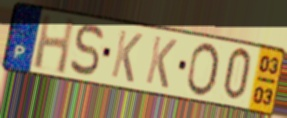0: (221, 46, 254, 106)
H: (31, 12, 77, 77)
K: (109, 28, 145, 86), (143, 34, 179, 92)
O: (184, 41, 221, 99)
S: (68, 22, 106, 78)
